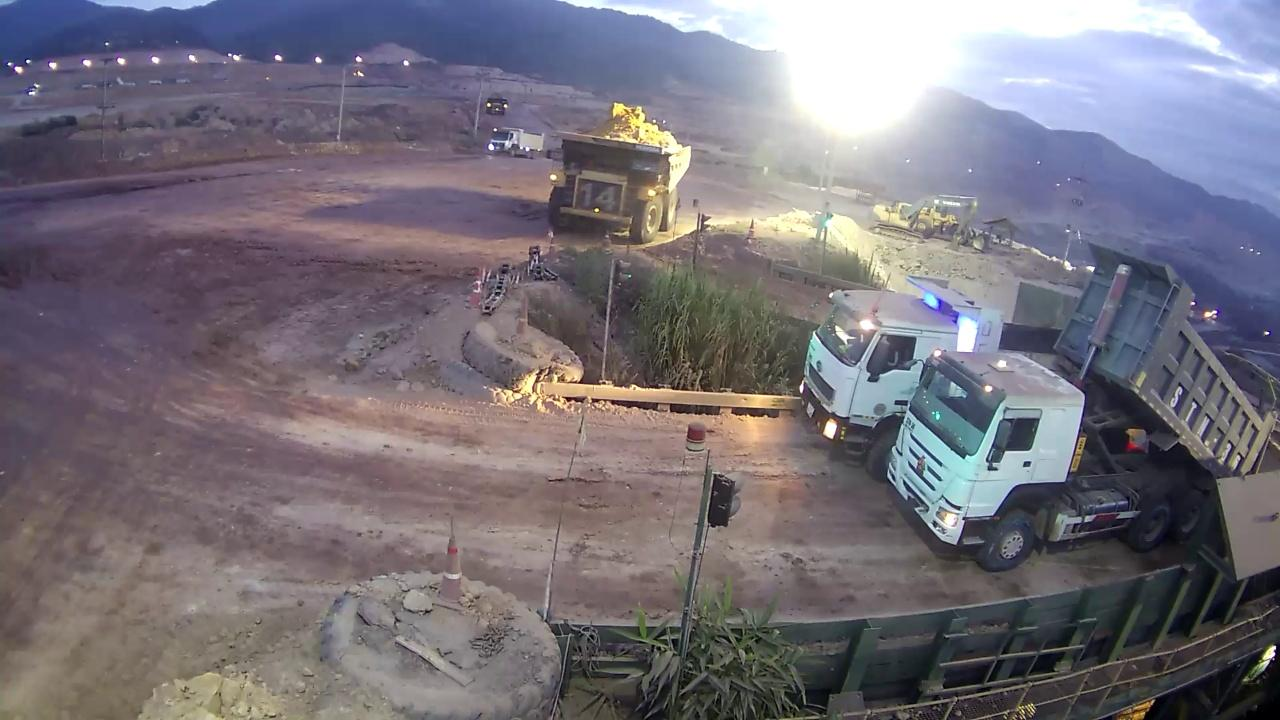front_number: (572, 174, 623, 218)
full_load: (583, 104, 687, 154)
mining_truck: (545, 101, 691, 244)
